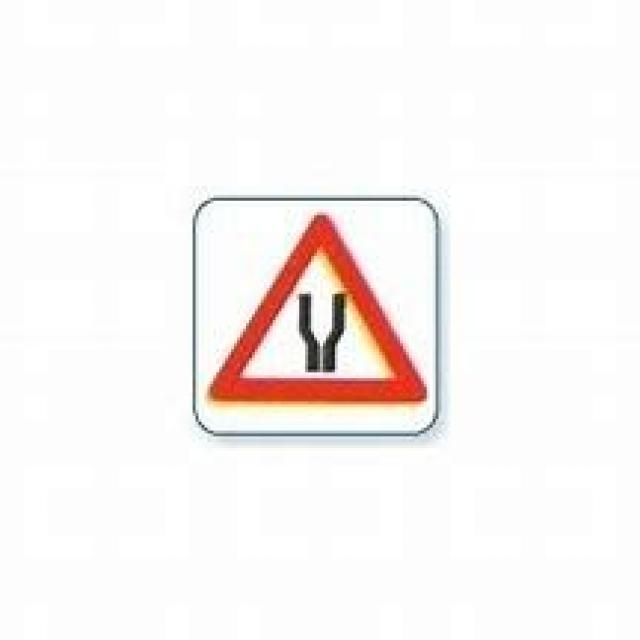ROAD_WIDENS_AHEAD: (202, 210, 426, 402)
